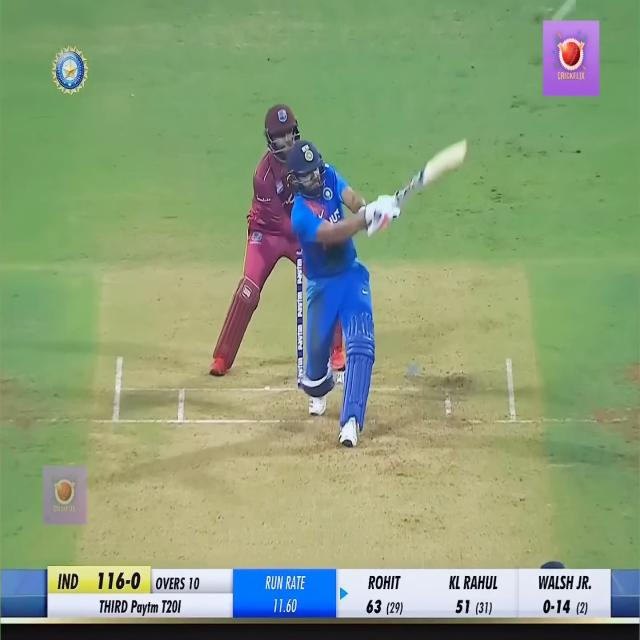fully_visible: (129, 597, 162, 620)
